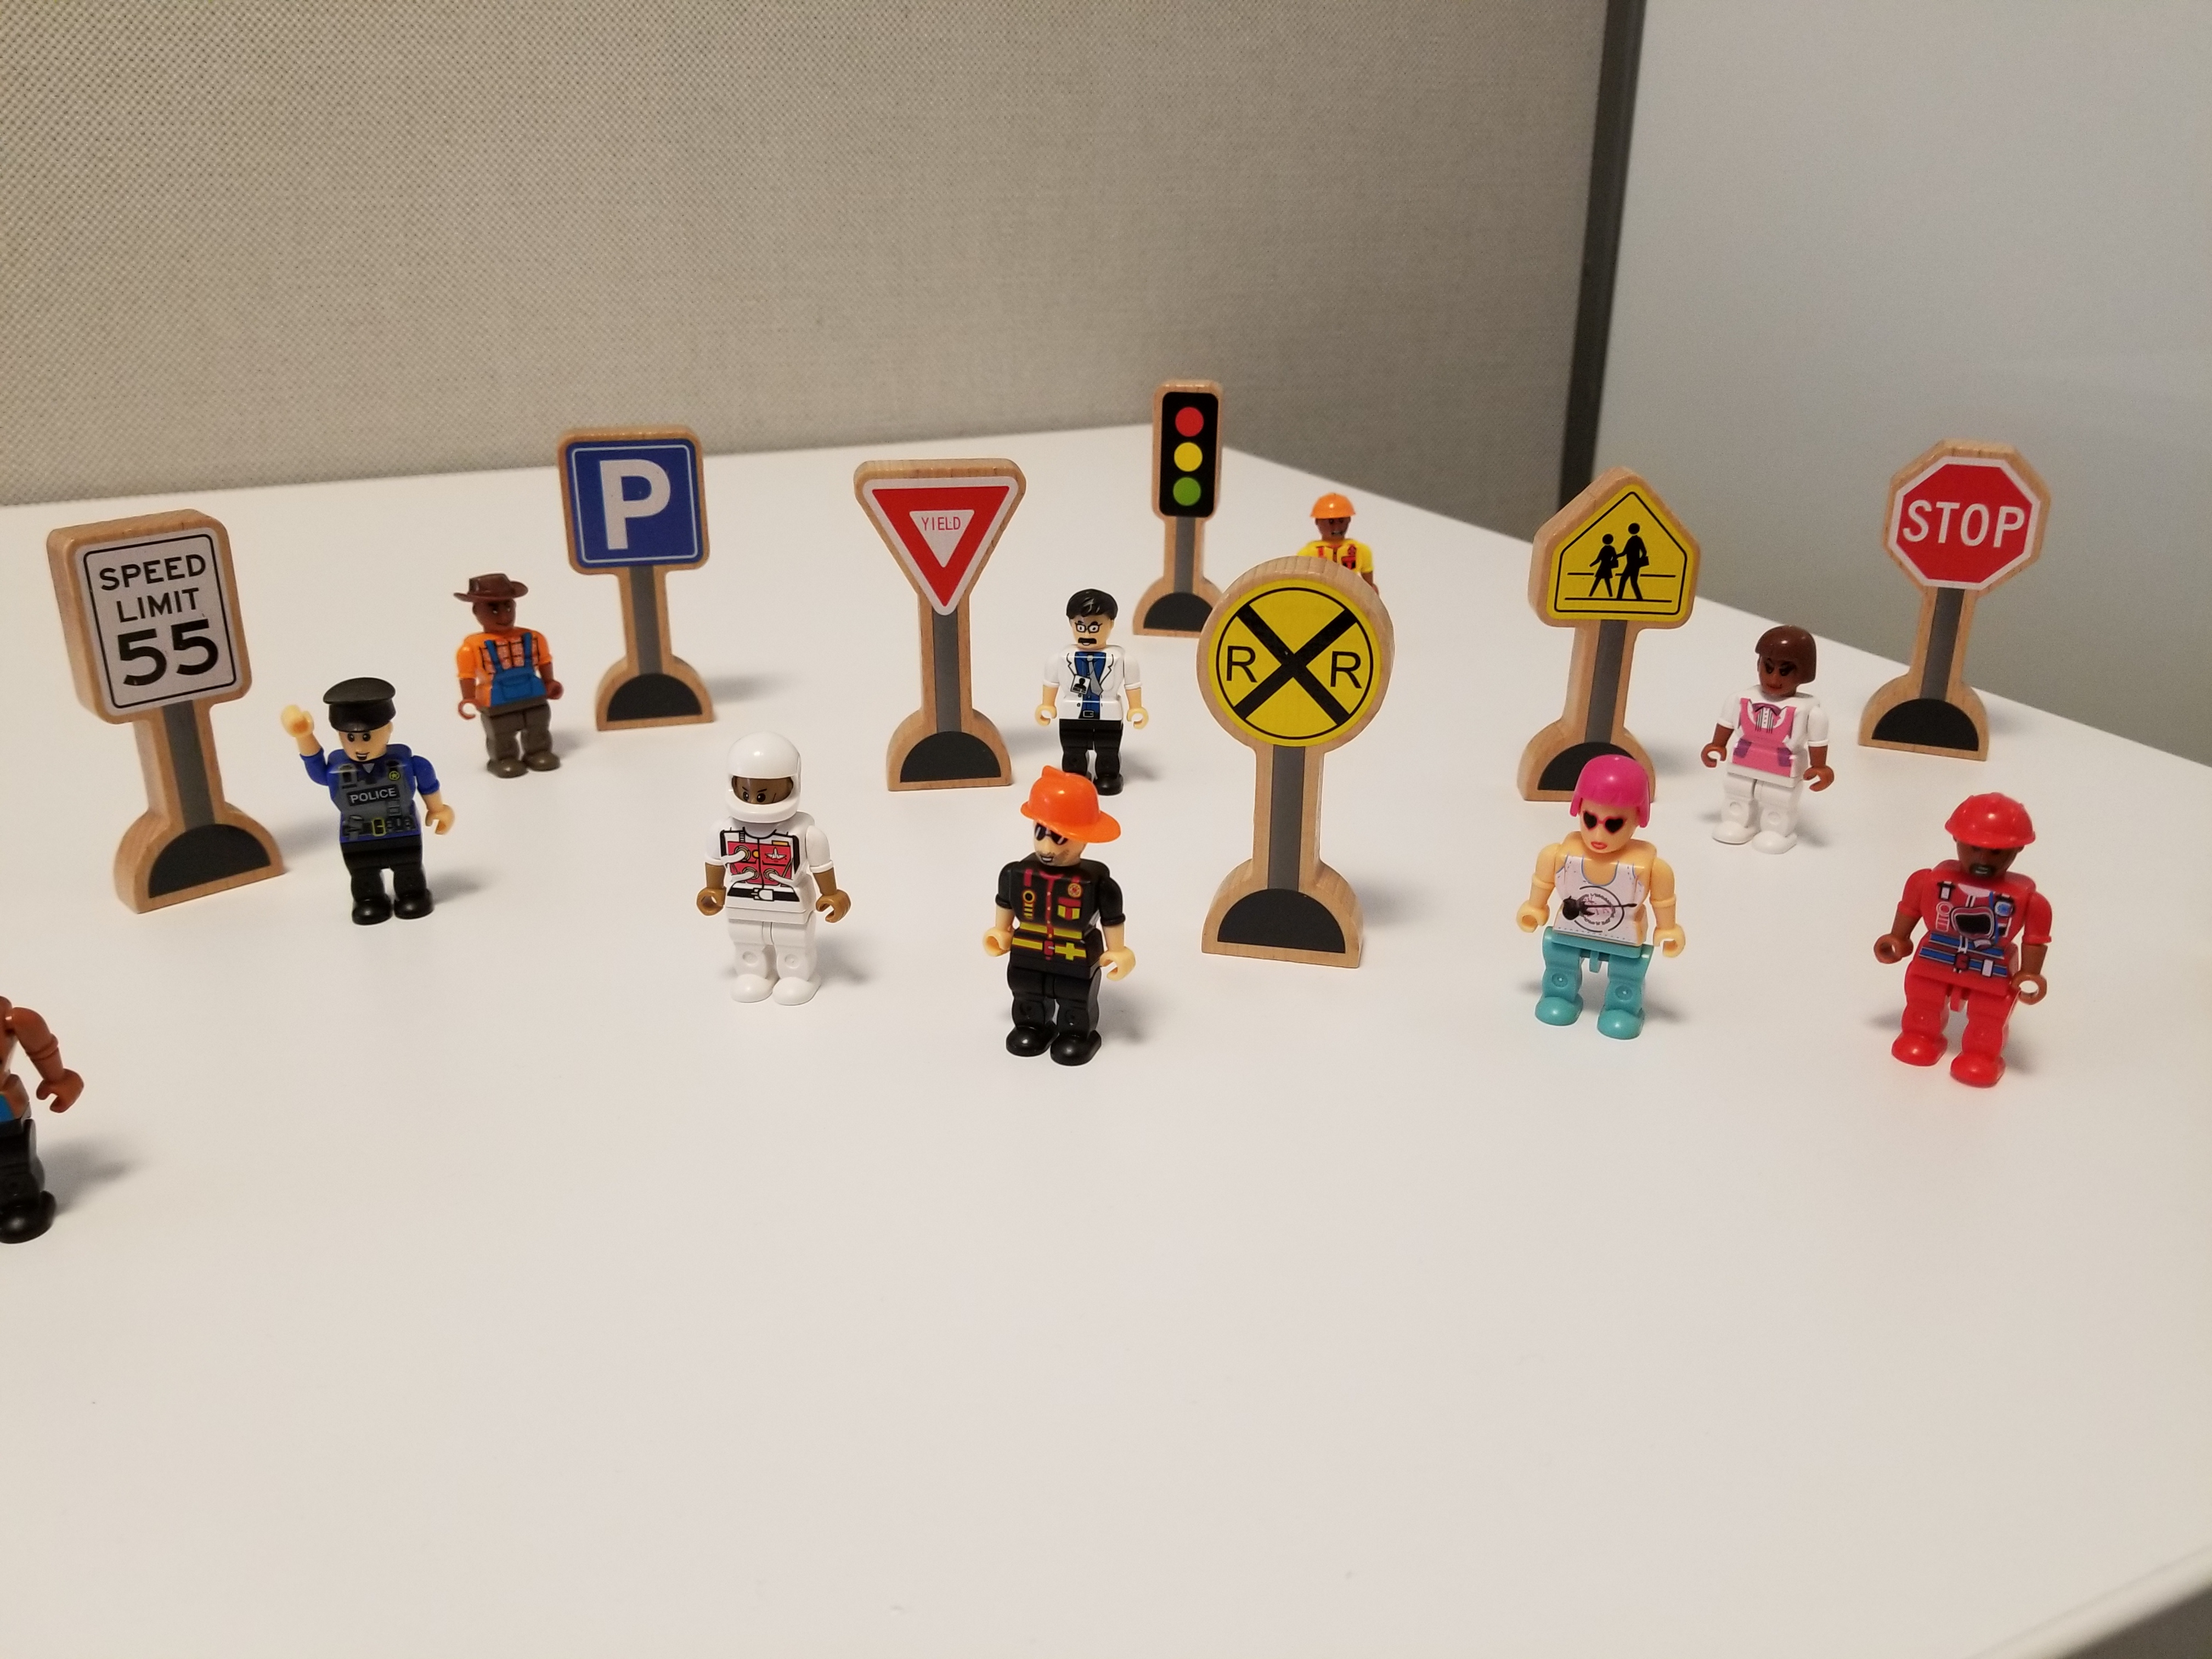Parking: (543, 418, 745, 695)
Pedestrian crossing: (1480, 427, 1730, 758)
Railroad Crossing: (1182, 539, 1392, 978)
Speed limit 55: (32, 510, 282, 894)
Stop: (1855, 425, 2051, 776)
Traffic Light: (1118, 350, 1232, 627)
Yield: (831, 447, 1039, 782)
person: (1860, 769, 2075, 1114), (1502, 749, 1704, 1087), (659, 714, 866, 1032), (260, 666, 488, 947), (982, 758, 1136, 1087)
